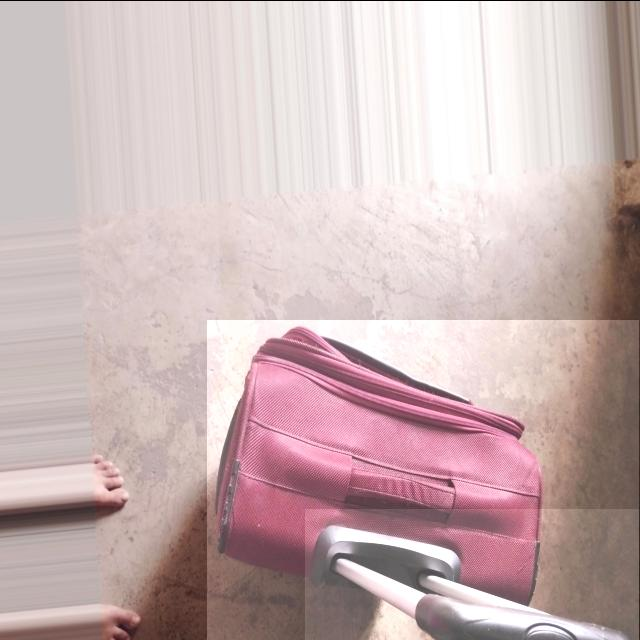Bag: (207, 320, 637, 638)
Handle: (303, 517, 637, 639)
